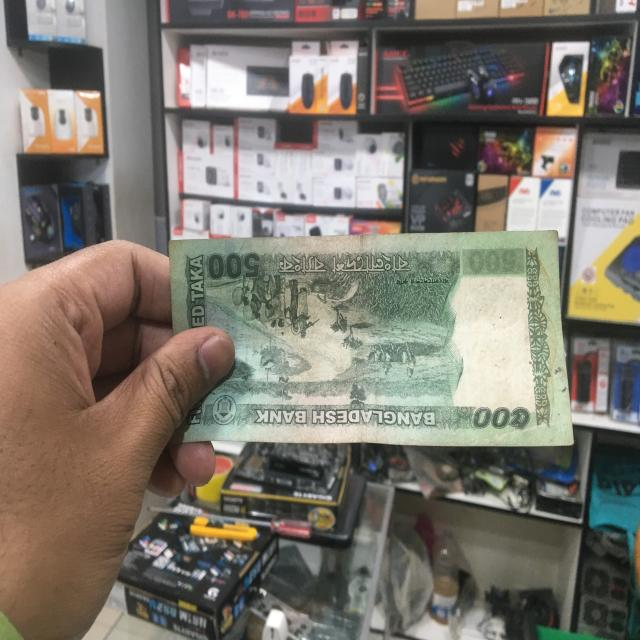Taka: (168, 241, 573, 452)
